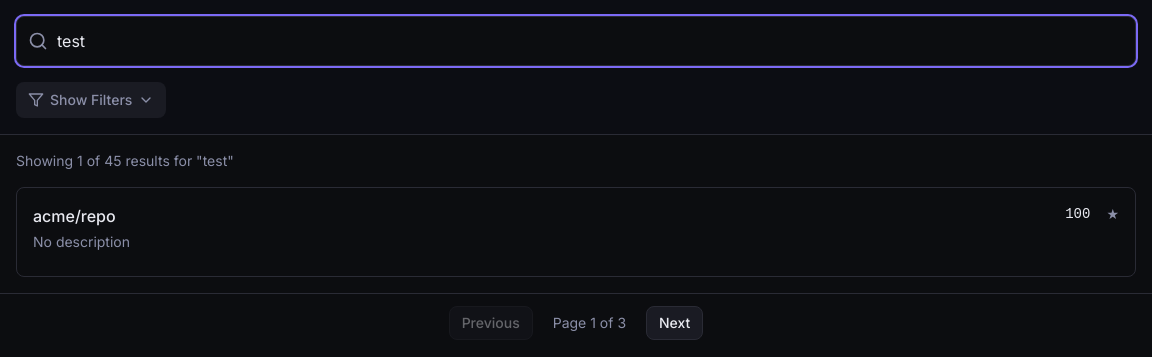
Test: SearchPanel pagination › resets to page 1 when the search query changes
Expected: the text "Page 1 of 3" is shown, left=553, top=314, right=626, bottom=331
advance to page 3
Click the button with aria-label "next page" at (675, 323), box left=646, top=306, right=703, bottom=340
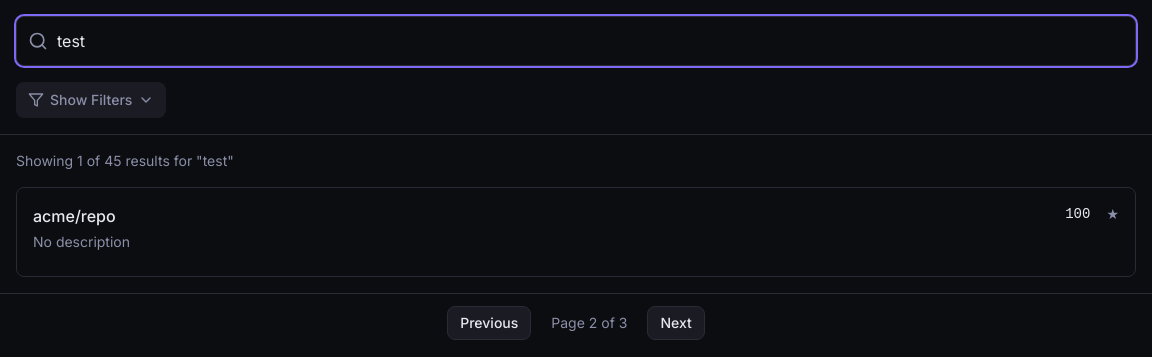
Expected: the text "Page 2 of 3" is shown, left=551, top=314, right=628, bottom=331
Click the button with aria-label "next page" at (676, 323), box left=648, top=306, right=705, bottom=340
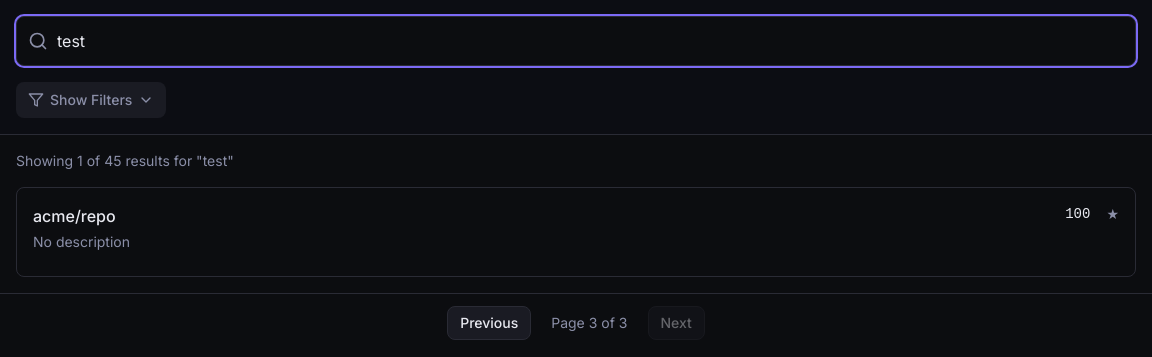
Expected: the text "Page 3 of 3" is shown, left=551, top=314, right=628, bottom=331
Replace the text in the field with placeholder "Search repositories (name, description, topics)..." with "react" at (576, 41), box left=16, top=16, right=1136, bottom=66
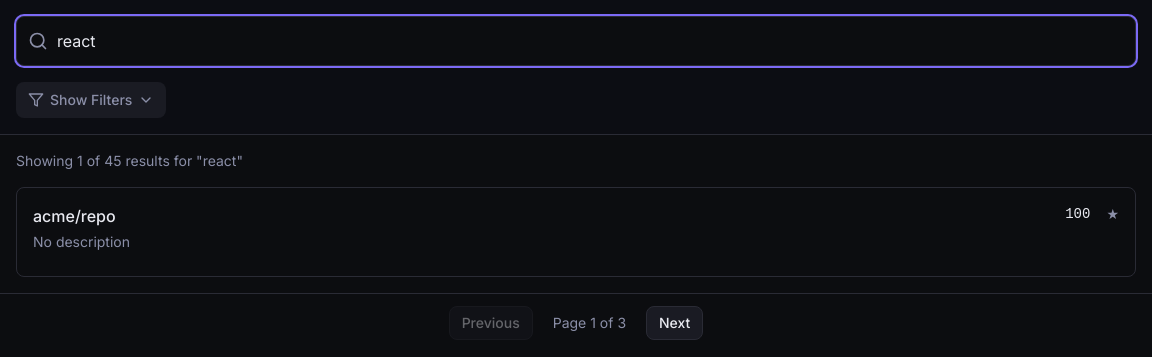
Expected: the text "Page 1 of 3" is shown, left=553, top=314, right=626, bottom=331
